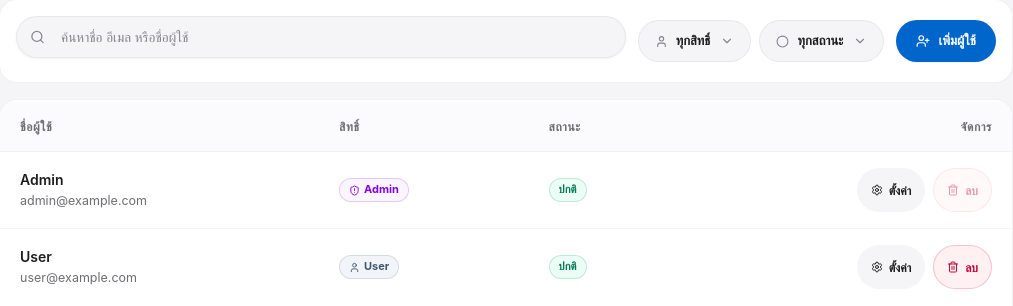
UserManagement — delete › asks for confirmation naming the account, then drops the row
The image size is (1013, 306).
Click the button "ลบ" in the row of "user@example.com". click: (963, 267)
box: [933,245,992,289]
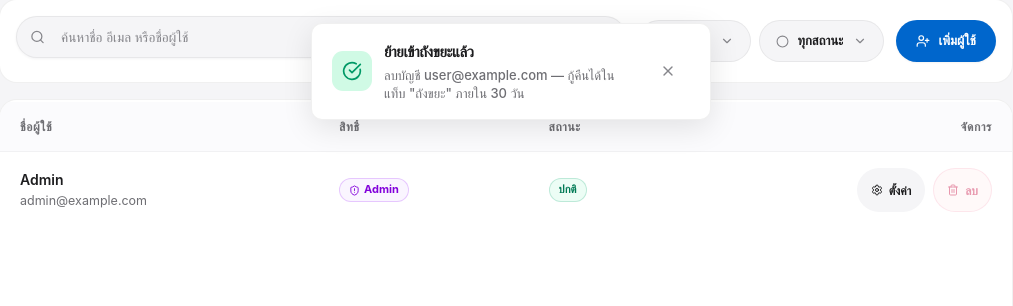
Expected: the text "admin@example.com" is shown, [20,193,147,208]
Result: the text "ย้ายเข้าถังขยะแล้ว" is shown at [384,42,474,61]
